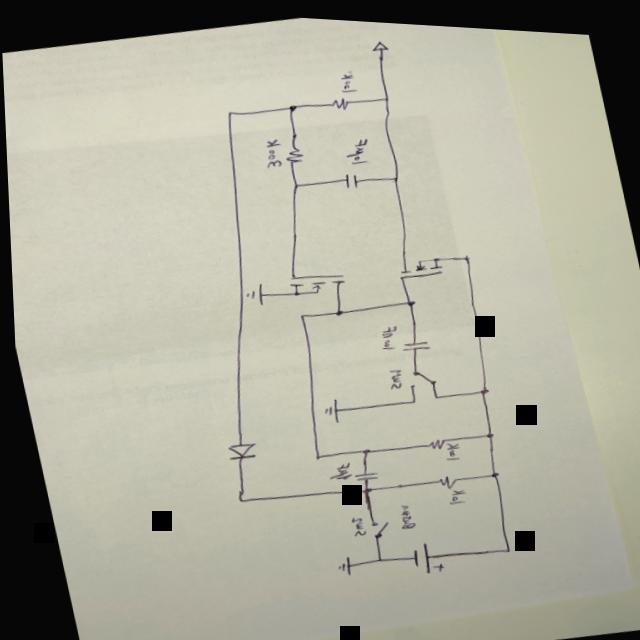capacitor: (396, 332, 429, 348), (340, 166, 360, 186), (349, 465, 377, 479)
diode: (220, 435, 257, 460)
ground: (316, 392, 341, 420), (240, 278, 266, 304), (330, 549, 351, 573)
junction: (356, 481, 372, 490), (231, 492, 245, 501), (286, 99, 299, 108), (475, 381, 488, 389), (481, 424, 492, 433), (498, 539, 509, 548), (224, 105, 235, 114), (485, 464, 497, 472), (403, 293, 414, 301), (332, 304, 343, 312), (357, 442, 368, 450), (290, 177, 301, 185), (380, 90, 391, 98), (370, 551, 381, 559), (390, 169, 401, 177), (309, 449, 319, 456), (460, 248, 470, 255), (405, 393, 414, 399), (295, 309, 304, 314), (429, 389, 438, 394)
resistor: (280, 139, 305, 161), (433, 467, 454, 485), (330, 90, 350, 107), (424, 431, 444, 444)
source: (404, 533, 441, 571)
switch: (401, 361, 435, 385), (363, 511, 389, 535)
terminal: (369, 33, 392, 49)
text: (339, 130, 374, 163), (257, 133, 285, 166), (374, 319, 399, 347), (336, 64, 361, 90), (391, 496, 413, 525), (323, 455, 352, 477), (439, 434, 461, 457), (345, 510, 365, 533), (384, 362, 403, 385), (442, 480, 465, 499)
transistor: (282, 260, 348, 297), (393, 248, 444, 276)
